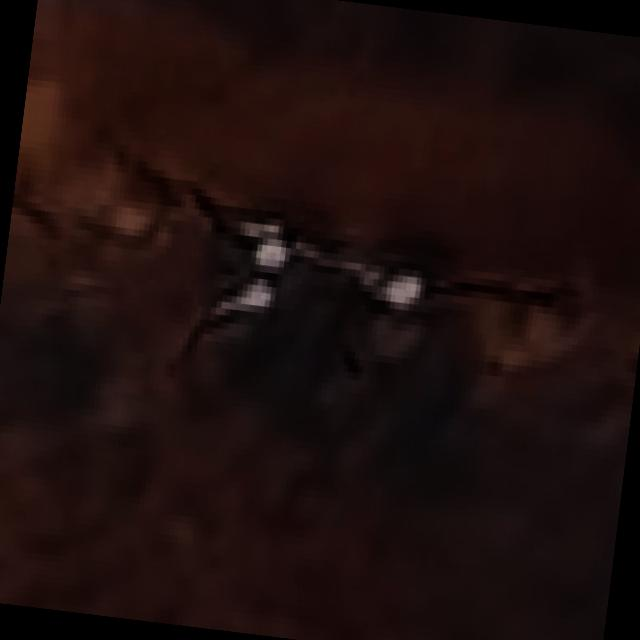crack: (218, 200, 561, 362)
